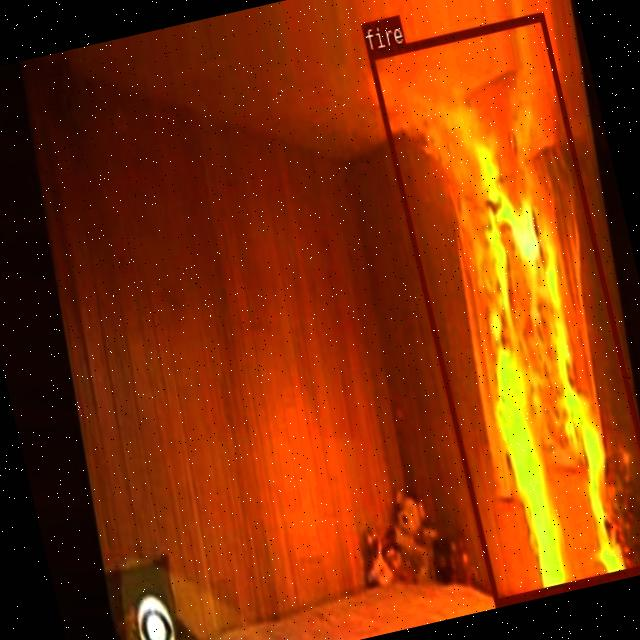fire: (366, 9, 640, 604)
